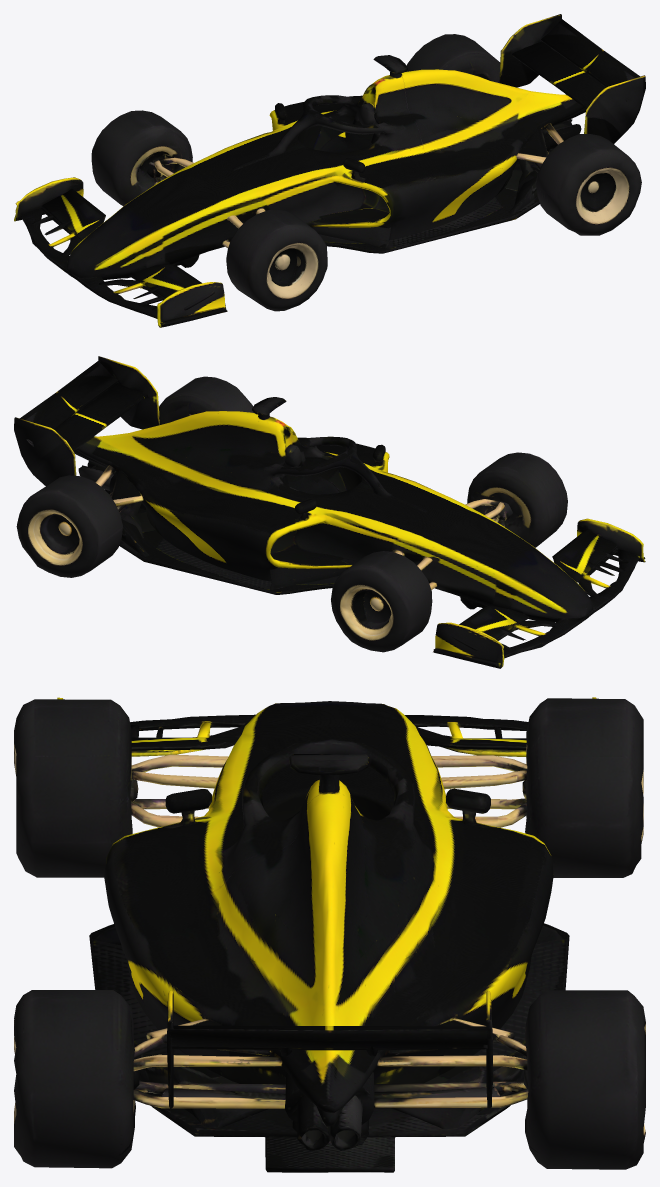
File: retro-force.glb
The picture shows the model from 3 angles, top to bottom: view 1: azimuth 30°, elevation 25°; view 2: azimuth 150°, elevation 25°; view 3: azimuth 270°, elevation 25°; orthographic projection. The views are drawn at different scales.
Bounding box in the file's own units: 1 × 0.2656 × 0.541.
Materials: 1 (1 with a texture image).
